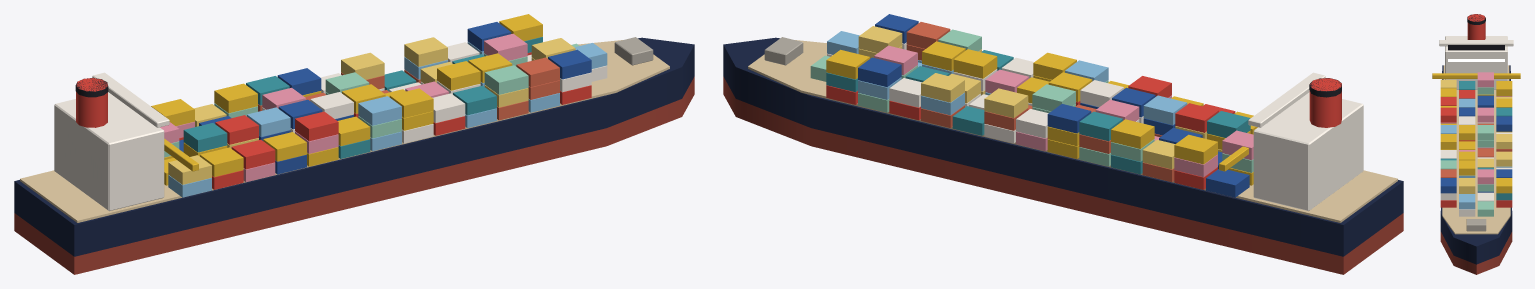
The model's file is cargo_ship.glb.
The picture shows the model from 3 angles, left to right: view 1: azimuth 30°, elevation 25°; view 2: azimuth 150°, elevation 25°; view 3: azimuth 270°, elevation 25°; orthographic projection. The views are drawn at different scales.
Parts seen in each view (by area): view 1: cargo_ship; view 2: cargo_ship; view 3: cargo_ship.
Boxes of the visible parts, x1,y1,x2,y2 form: cargo_ship: (14, 14, 694, 274); cargo_ship: (723, 14, 1403, 274); cargo_ship: (1432, 14, 1520, 274).
Bounding box in the file's own units: 300 × 69 × 62.
1 material, 1 textured.
